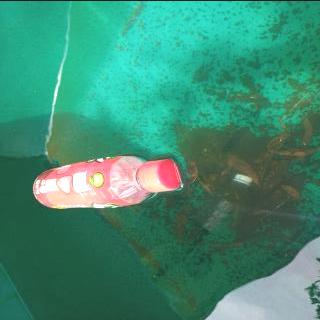bottle: (33, 154, 184, 210)
